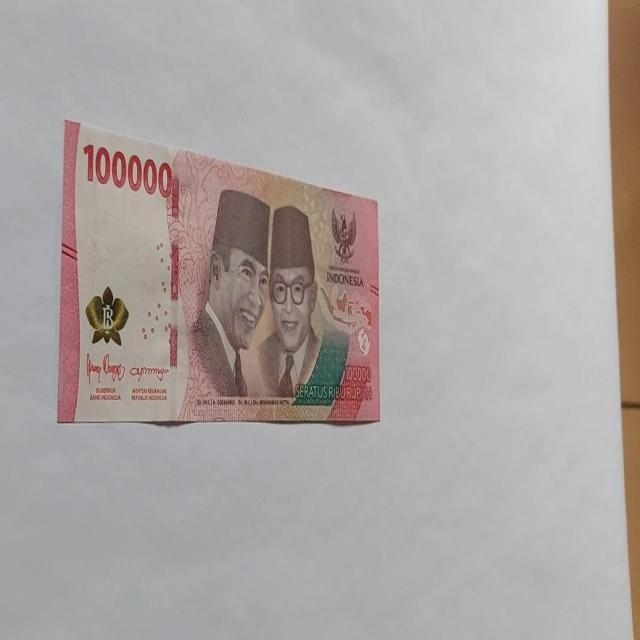seratus ribu rupiah: (57, 118, 381, 427), (177, 186, 271, 420)
